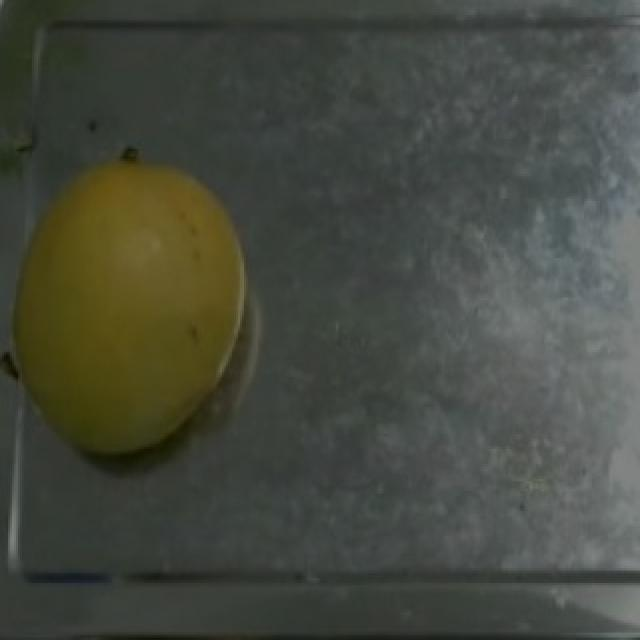fruit: (2, 132, 274, 476)
